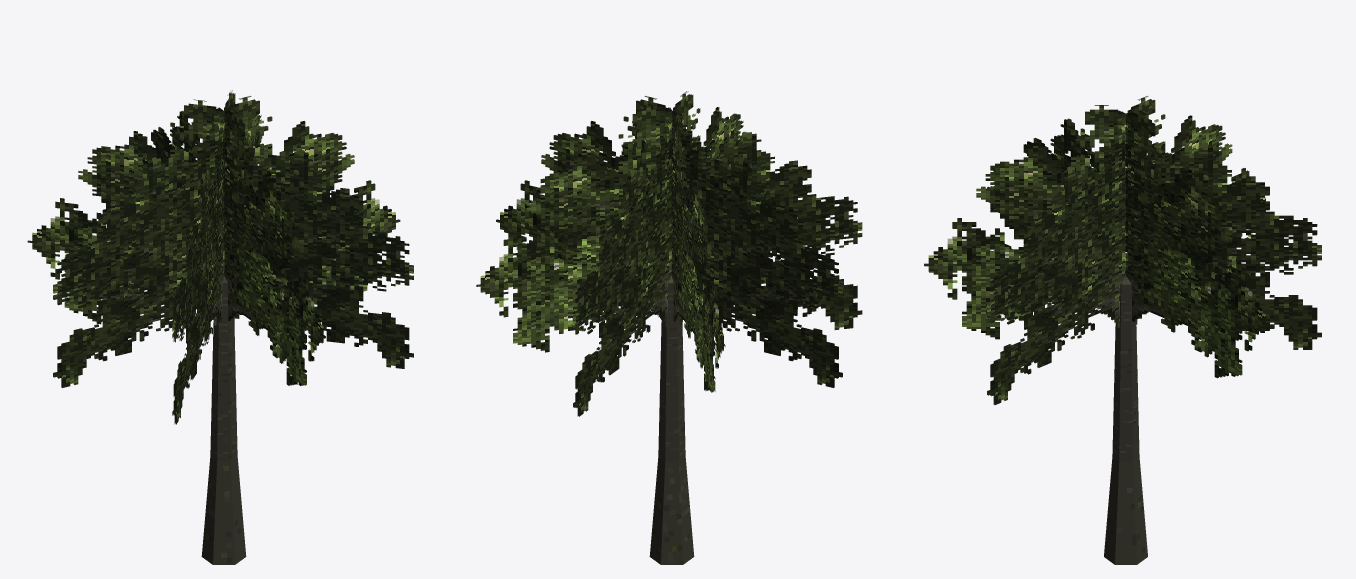
Rendered from tree27.glb.
The picture shows the model from 3 angles, left to right: view 1: azimuth 30°, elevation 25°; view 2: azimuth 150°, elevation 25°; view 3: azimuth 270°, elevation 25°; orthographic projection.
Visible parts, largest first — view 1: tree27; view 2: tree27; view 3: tree27.
Boxes of the visible parts, <box> form: tree27: <box>27,90,413,564</box>; tree27: <box>476,91,862,564</box>; tree27: <box>924,96,1321,564</box>.
Bounding box in the file's own units: 5.2 × 6 × 5.2.
1 material, 1 textured.
